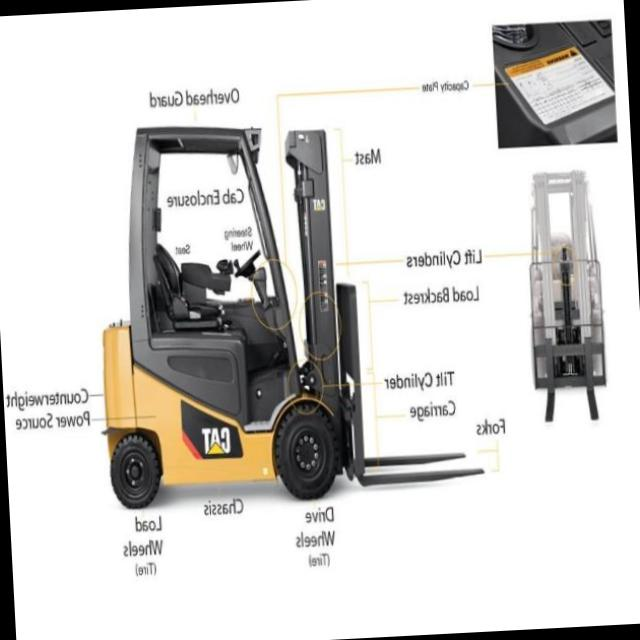forklift: (83, 75, 374, 514)
